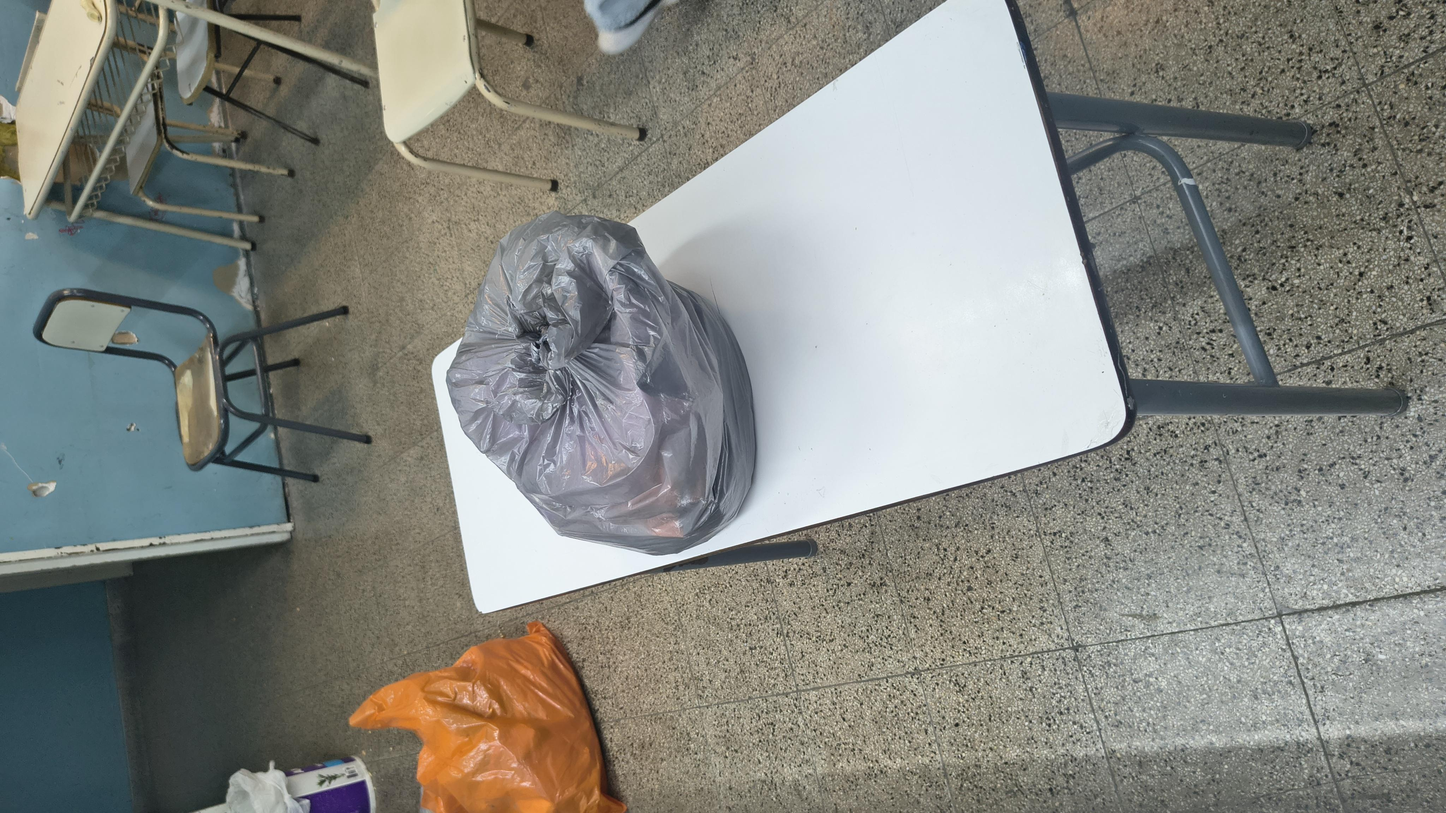Garbage: (420, 228, 1117, 443), (6, 189, 358, 363)
